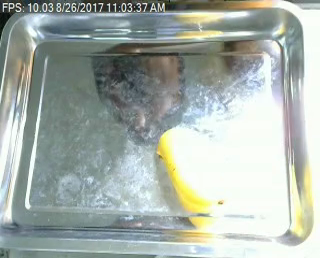Mango: (153, 127, 241, 210)
